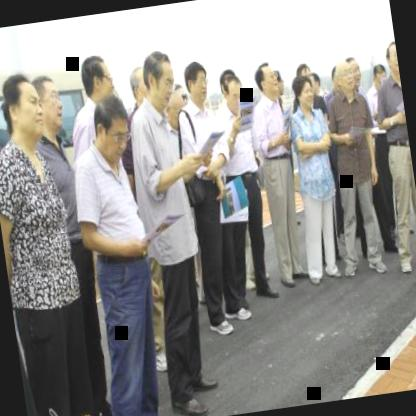head: (0, 66, 53, 153), (84, 93, 132, 172), (140, 46, 181, 115), (28, 65, 66, 137), (75, 50, 118, 107), (180, 58, 212, 110), (215, 64, 245, 112), (126, 61, 152, 116), (250, 59, 283, 102), (291, 64, 318, 110), (162, 87, 187, 132), (334, 54, 356, 100), (345, 53, 364, 92), (369, 60, 390, 95), (382, 38, 400, 78)
